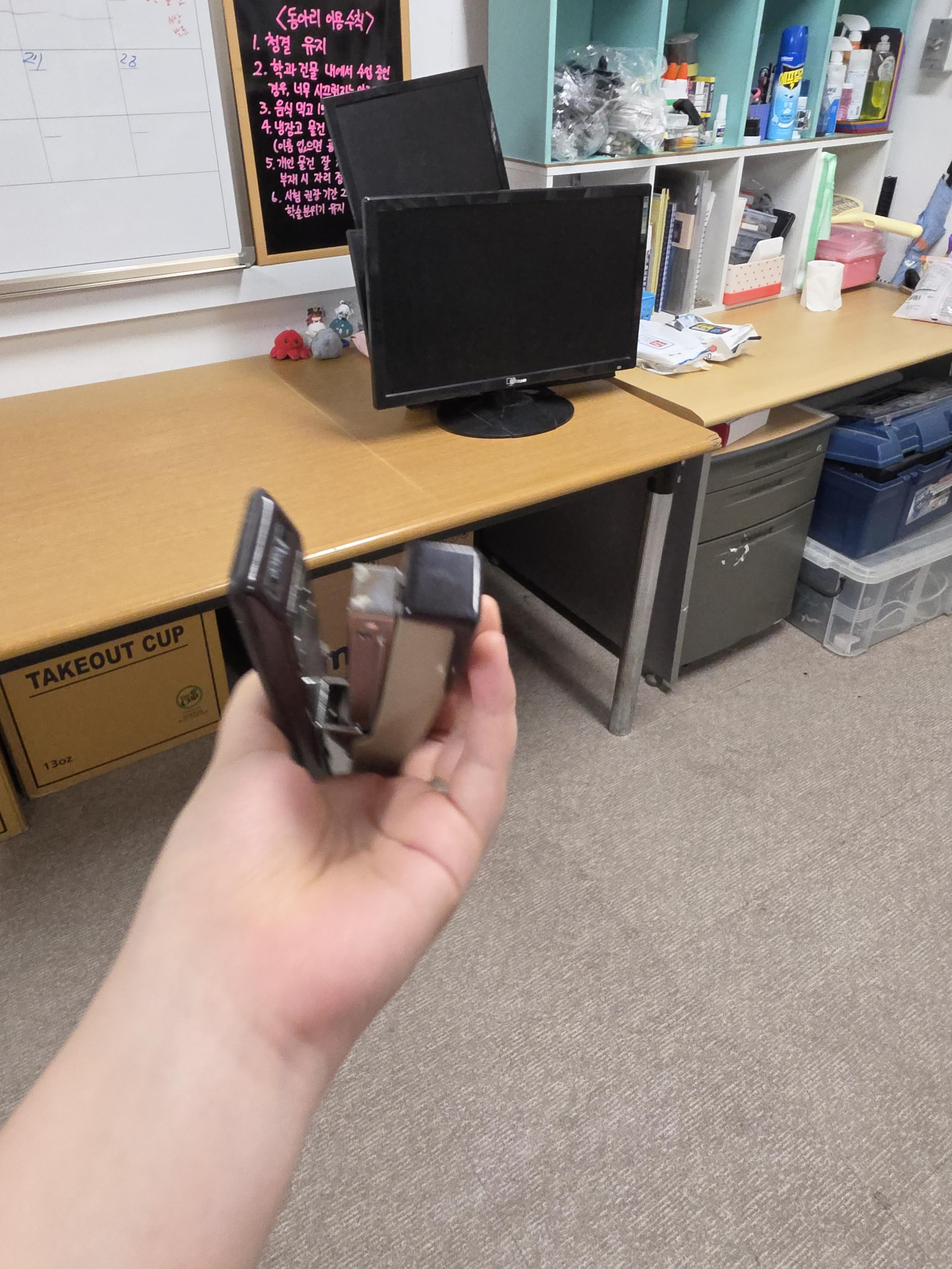stapler: (228, 488, 483, 779)
tissue: (723, 237, 786, 306), (800, 260, 845, 312)
